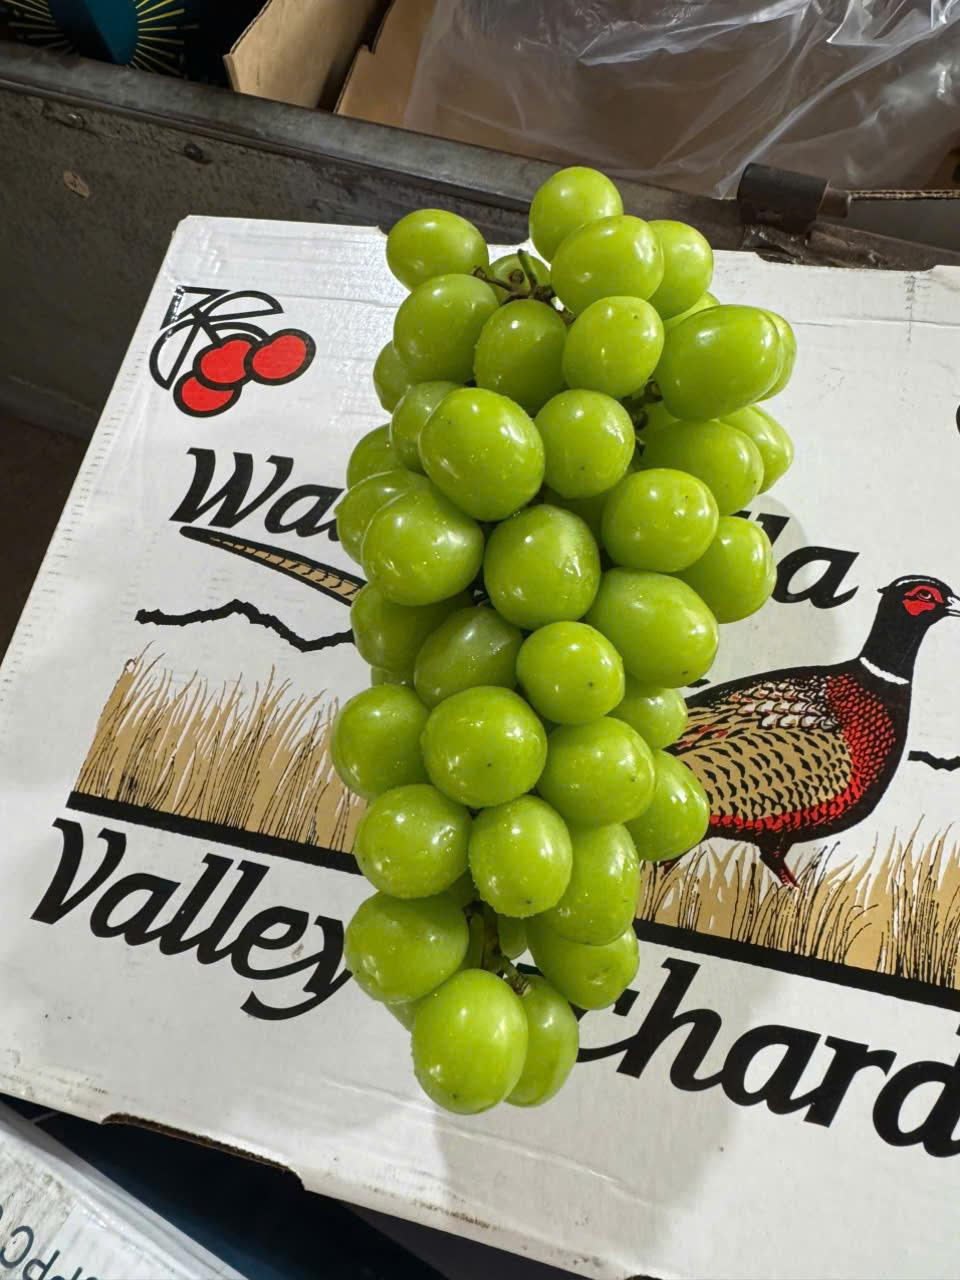grape: (328, 158, 799, 1106)
